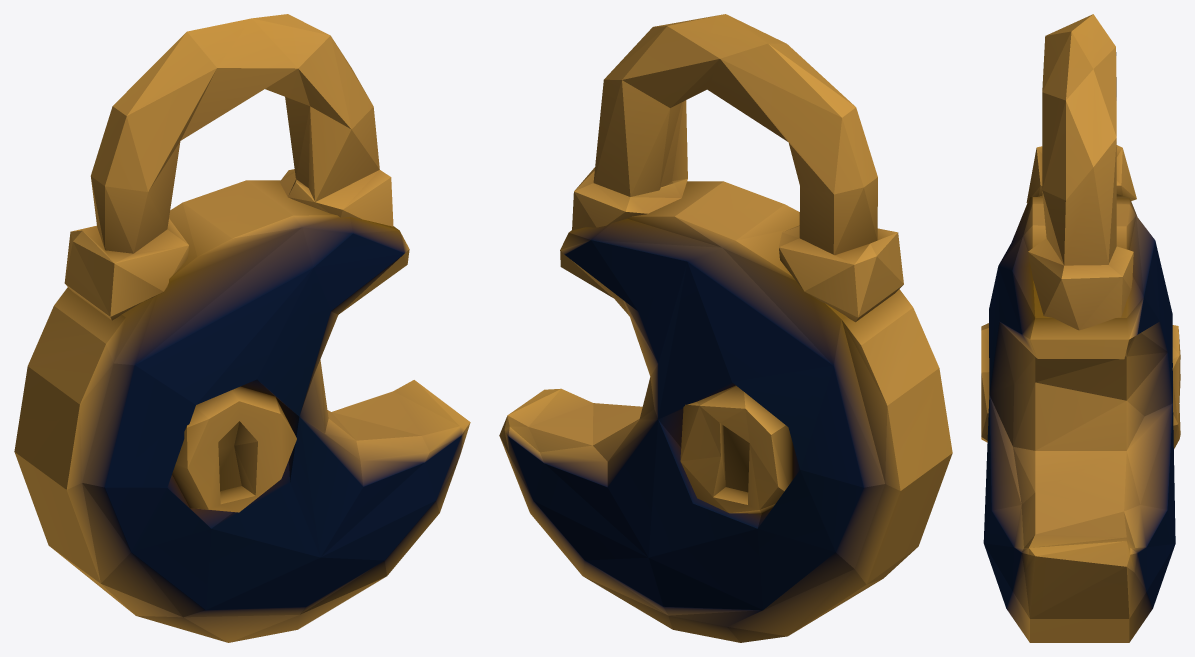
Rendered from lock_09_lod1.glb.
The picture shows the model from 3 angles, left to right: view 1: azimuth 30°, elevation 25°; view 2: azimuth 150°, elevation 25°; view 3: azimuth 270°, elevation 25°; orthographic projection. The views are drawn at different scales.
Visible parts, largest first — view 1: geometry_0; view 2: geometry_0; view 3: geometry_0.
Boxes of the visible parts, left/top/right/bottom form: geometry_0: left=14, top=14, right=470, bottom=642; geometry_0: left=499, top=14, right=952, bottom=642; geometry_0: left=981, top=14, right=1180, bottom=642.
Bounding box in the file's own units: 0.6739 × 0.9526 × 0.2925.
